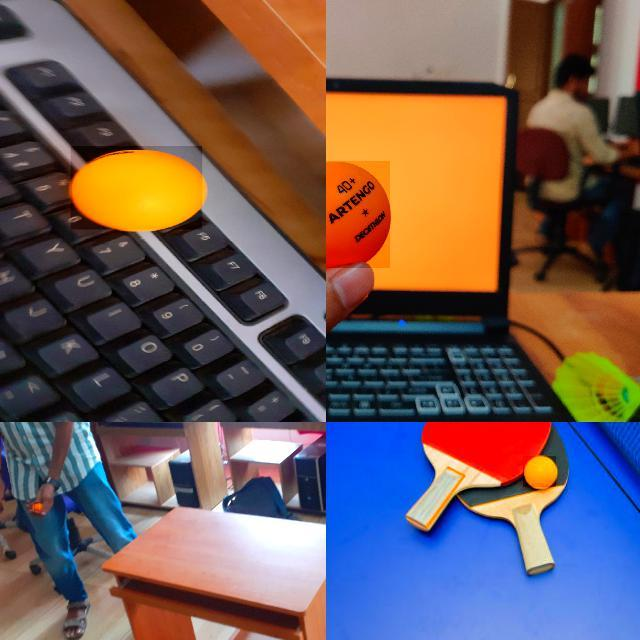ping-pong-ball: (71, 146, 203, 230), (326, 161, 392, 270), (523, 456, 557, 488), (34, 502, 40, 512)
